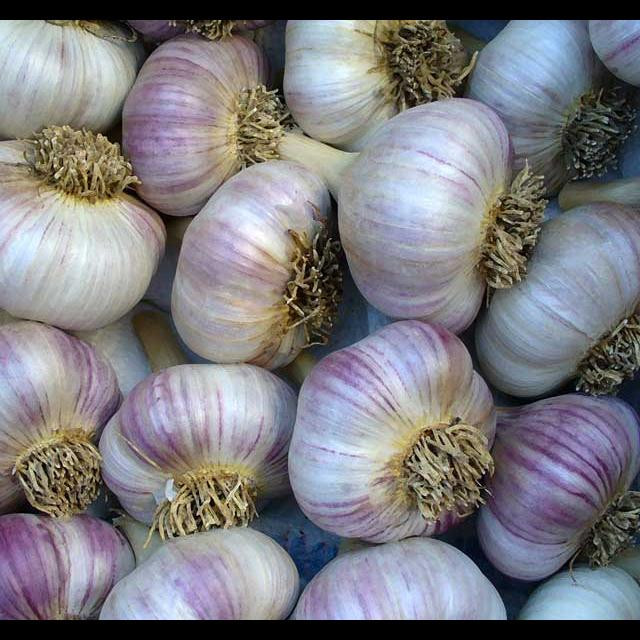garlic: (290, 320, 479, 537), (343, 101, 505, 325), (486, 201, 640, 400), (173, 169, 320, 369), (485, 394, 640, 577), (103, 363, 286, 517), (0, 143, 153, 324), (133, 24, 267, 198), (0, 316, 106, 500), (0, 20, 125, 132), (278, 20, 396, 137)
